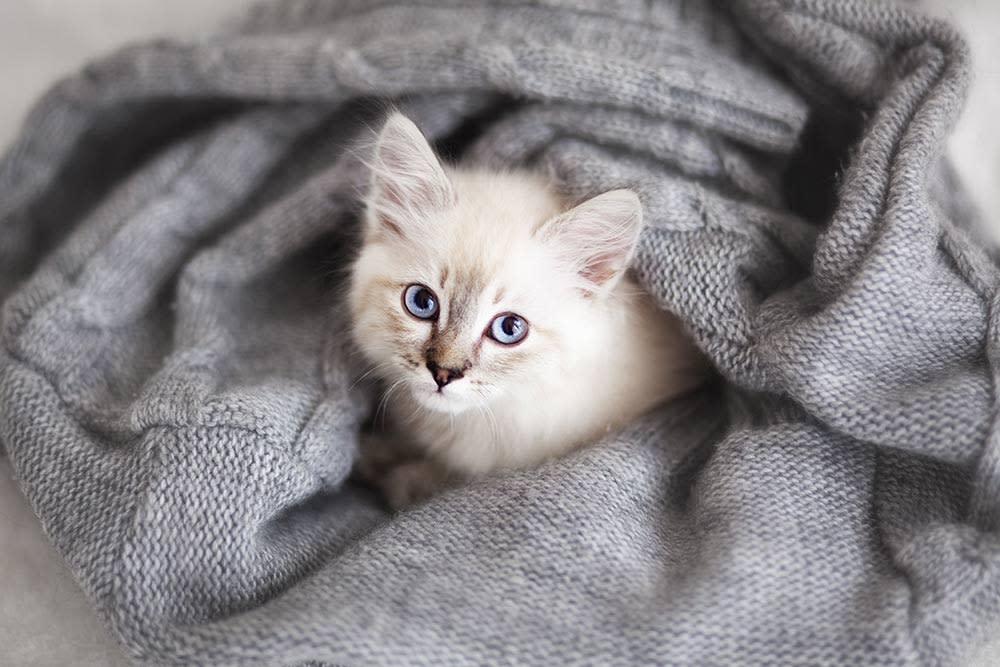Cat: (330, 121, 721, 507)
